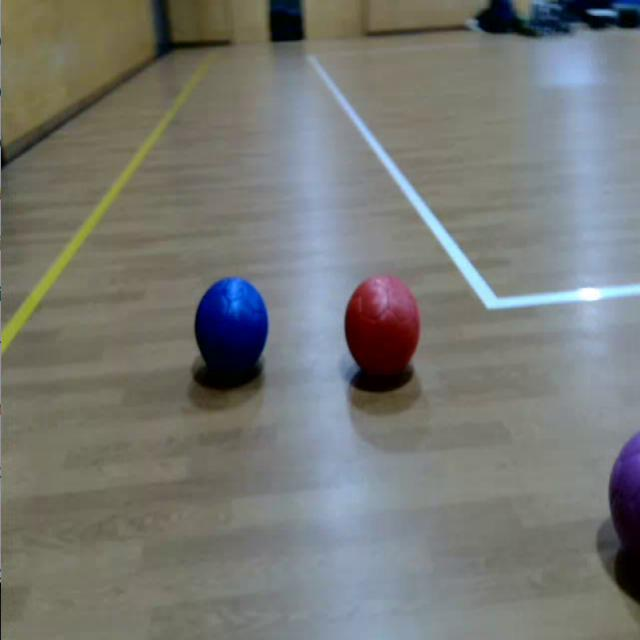blue_ball: (193, 278, 270, 374)
purple_ball: (609, 428, 640, 560)
red_ball: (344, 275, 420, 378)
